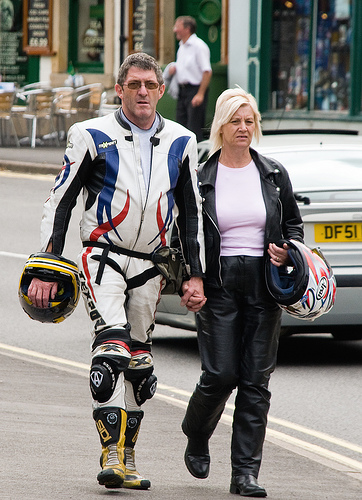helmet: (264, 243, 345, 316), (19, 253, 80, 317)
